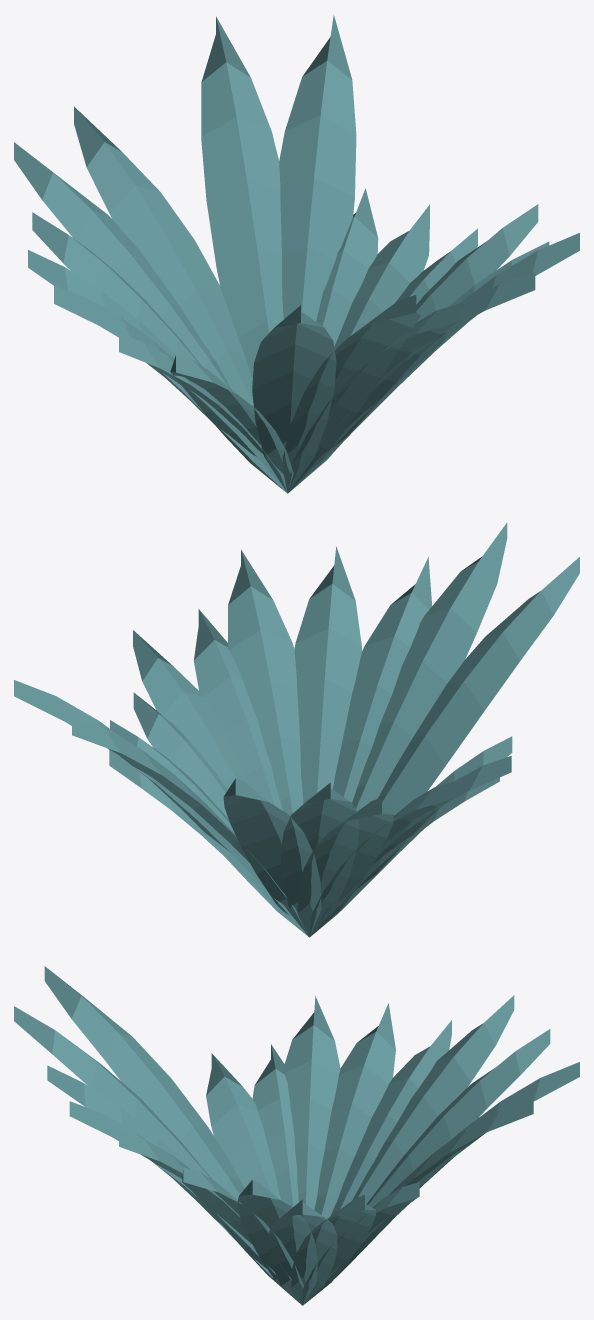
The model's file is agave.glb.
The picture shows the model from 3 angles, top to bottom: view 1: azimuth 30°, elevation 25°; view 2: azimuth 150°, elevation 25°; view 3: azimuth 270°, elevation 25°; orthographic projection. The views are drawn at different scales.
Parts seen in each view (by area): view 1: Agave_Hero; view 2: Agave_Hero; view 3: Agave_Hero.
Part boxes in pixels (x1,y1,x2,y2): Agave_Hero: (14,14,579,493); Agave_Hero: (14,522,579,937); Agave_Hero: (14,966,579,1305).
Bounding box in the file's own units: 2.34 × 1.68 × 3.04.
